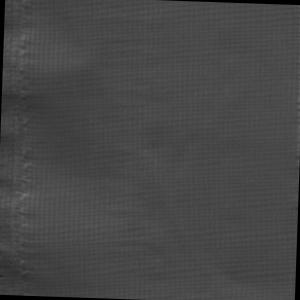Wrinkle: (102, 74, 270, 300)
